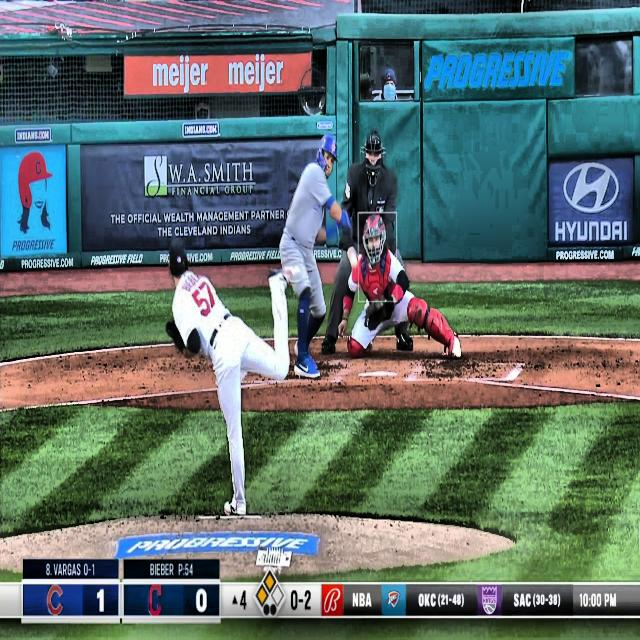baseball: (349, 251, 358, 268)
